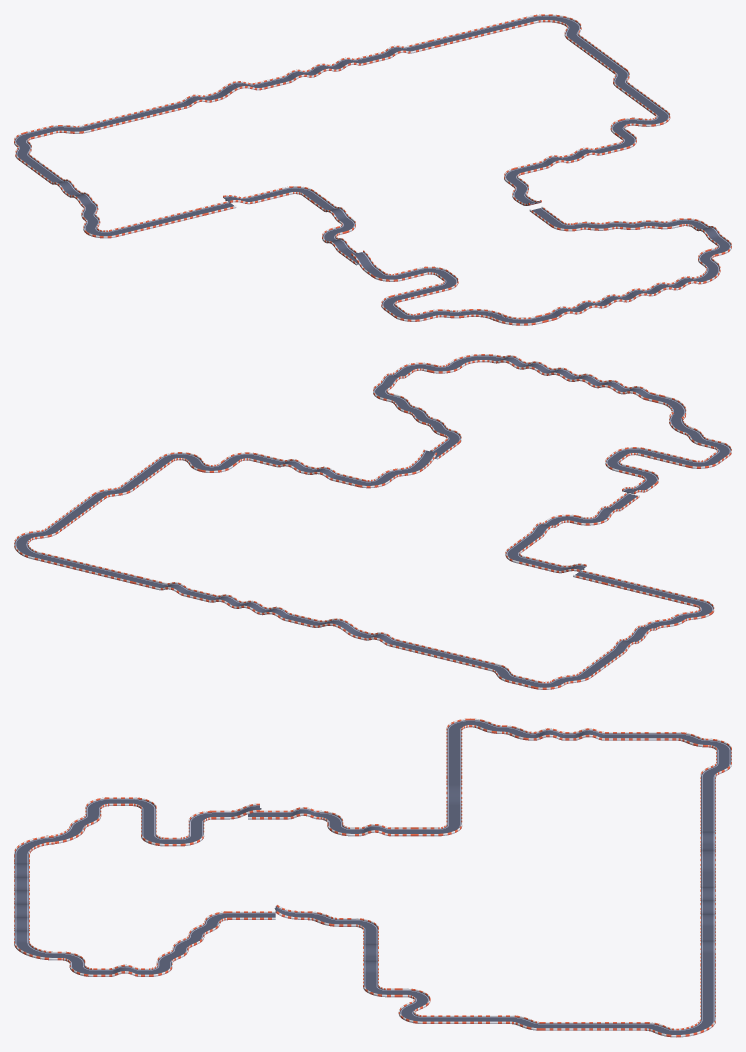
File: Track.gltf
3 renders of one model, top to bottom at view 1: azimuth 30°, elevation 25°; view 2: azimuth 150°, elevation 25°; view 3: azimuth 270°, elevation 25°, orthographic. The views are drawn at different scales.
Size of what is drawn, in the model's own units: 284 by 3.9 by 272.
Materials: 7 (7 with a texture image).
